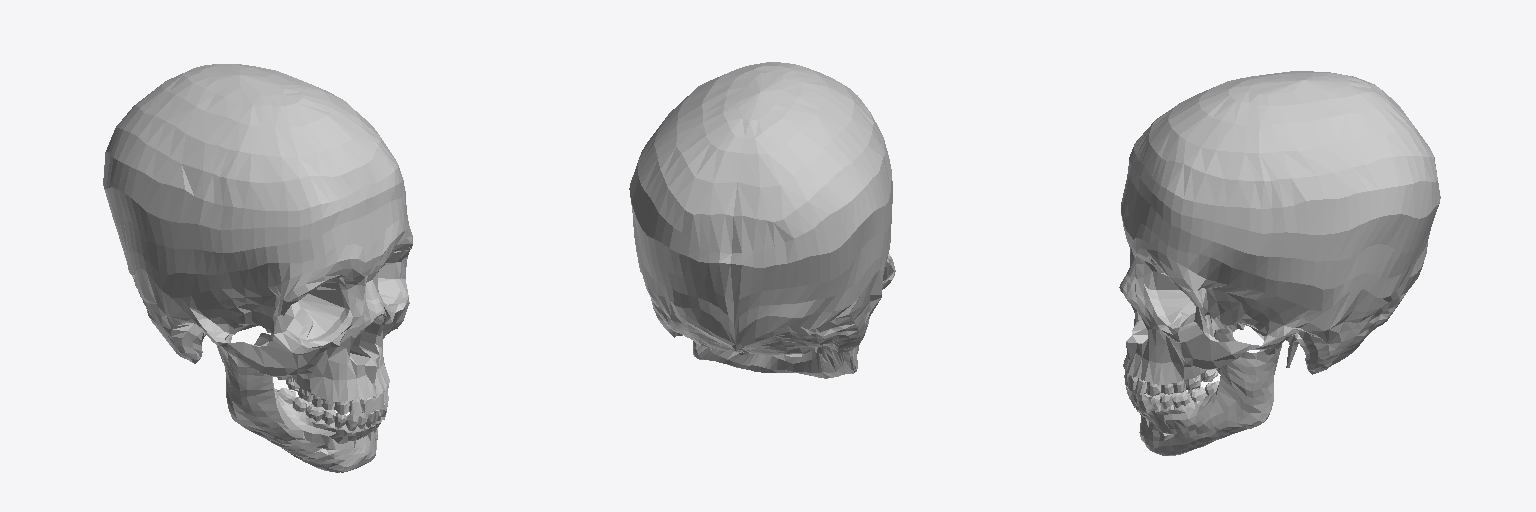
File: skull.obj
The picture shows the model from 3 angles: view 1: azimuth 30°, elevation 25°; view 2: azimuth 150°, elevation 25°; view 3: azimuth 270°, elevation 25°; orthographic projection.
Visible parts, largest first — view 1: skull, jaw, lteeth, uteeth; view 2: skull, jaw; view 3: skull, jaw, lteeth, uteeth.
Part boxes in pixels (left/top/right/bottom): skull: left=103, top=64, right=412, bottom=404; jaw: left=218, top=333, right=385, bottom=472; lteeth: left=277, top=388, right=387, bottom=430; uteeth: left=277, top=376, right=388, bottom=415; skull: left=629, top=62, right=895, bottom=354; jaw: left=693, top=341, right=859, bottom=378; skull: left=1119, top=71, right=1440, bottom=384; jaw: left=1129, top=329, right=1281, bottom=455; lteeth: left=1126, top=381, right=1219, bottom=410; uteeth: left=1124, top=368, right=1219, bottom=396.
Bounding box in the file's own units: 5.23 × 7.32 × 6.14.